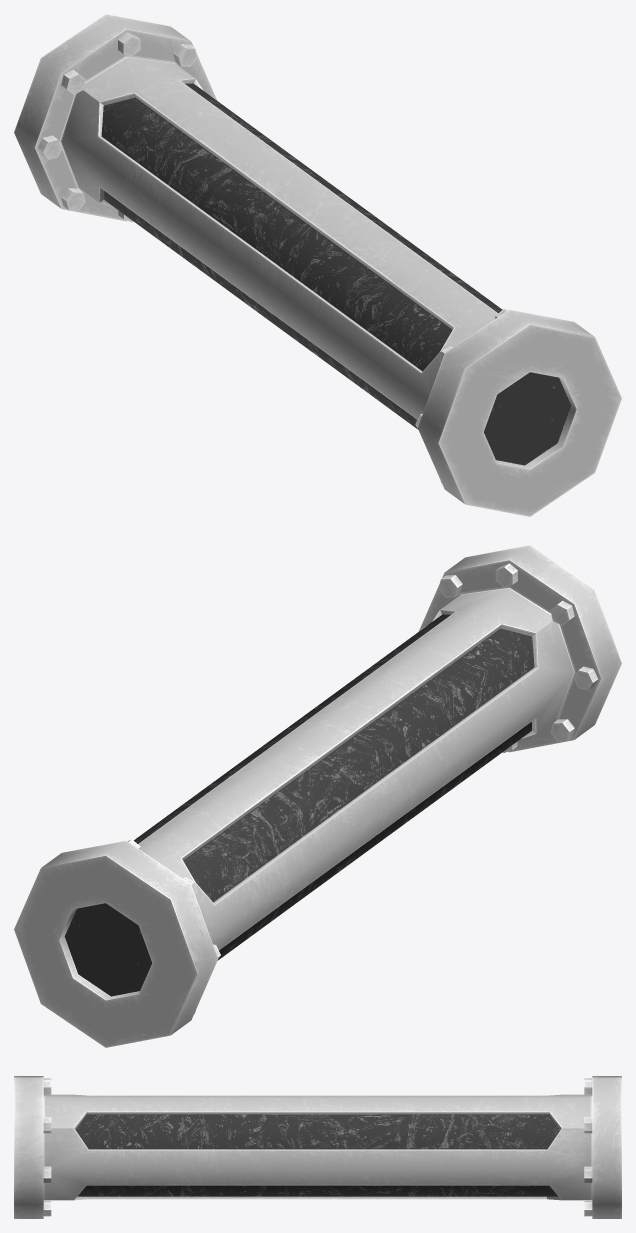
The model's file is Pipe.glb.
3 renders of one model, top to bottom at view 1: azimuth 30°, elevation 25°; view 2: azimuth 150°, elevation 25°; view 3: azimuth 270°, elevation 25°, orthographic. The views are drawn at different scales.
Visible parts, largest first — view 1: pipe; view 2: pipe; view 3: pipe.
Part boxes in pixels (x1,y1,x2,y2): pipe: (14, 14, 621, 516); pipe: (14, 545, 621, 1047); pipe: (14, 1076, 621, 1218).
Size of what is drawn, in the model's own units: 0.7154 by 0.7154 by 2.86.
Materials: 1 (1 with a texture image).
